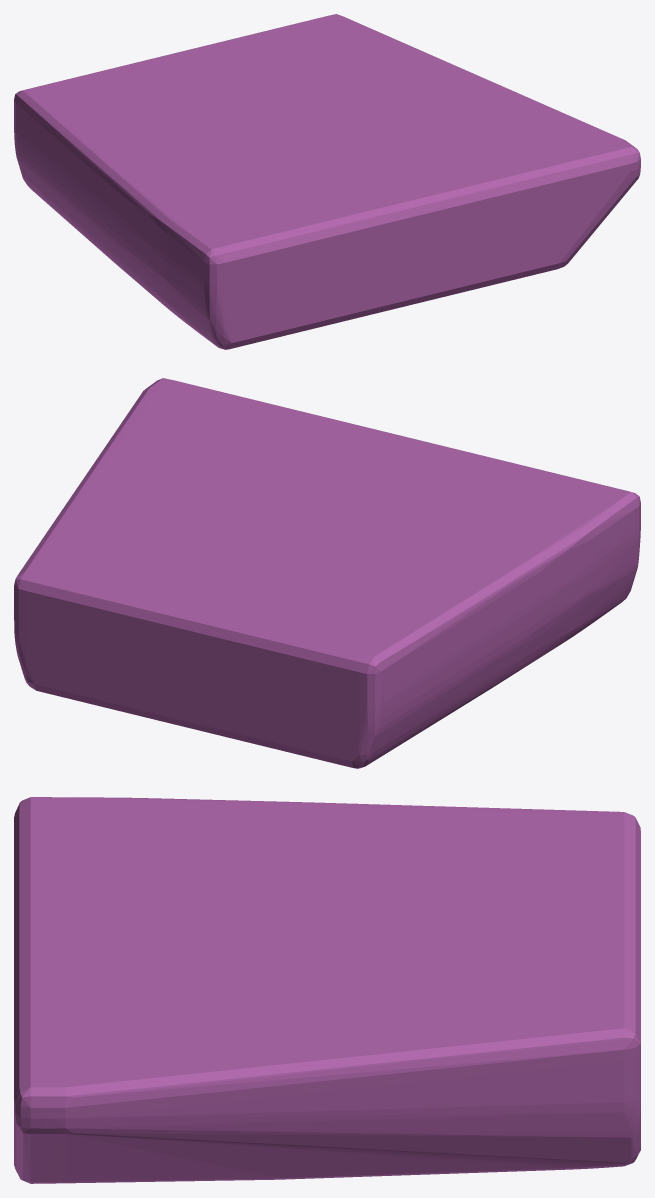
Rendered from right_shoulder_yaw_link_part_7.obj.
3 renders of one model, top to bottom at view 1: azimuth 30°, elevation 25°; view 2: azimuth 150°, elevation 25°; view 3: azimuth 270°, elevation 25°, orthographic. The views are drawn at different scales.
Bounding box in the file's own units: 0.0713 × 0.0163 × 0.0628.
